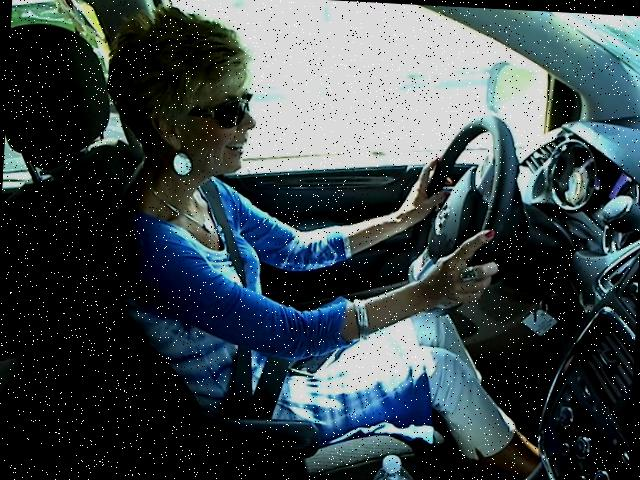c0 - Safe Driving: (86, 3, 538, 373)
